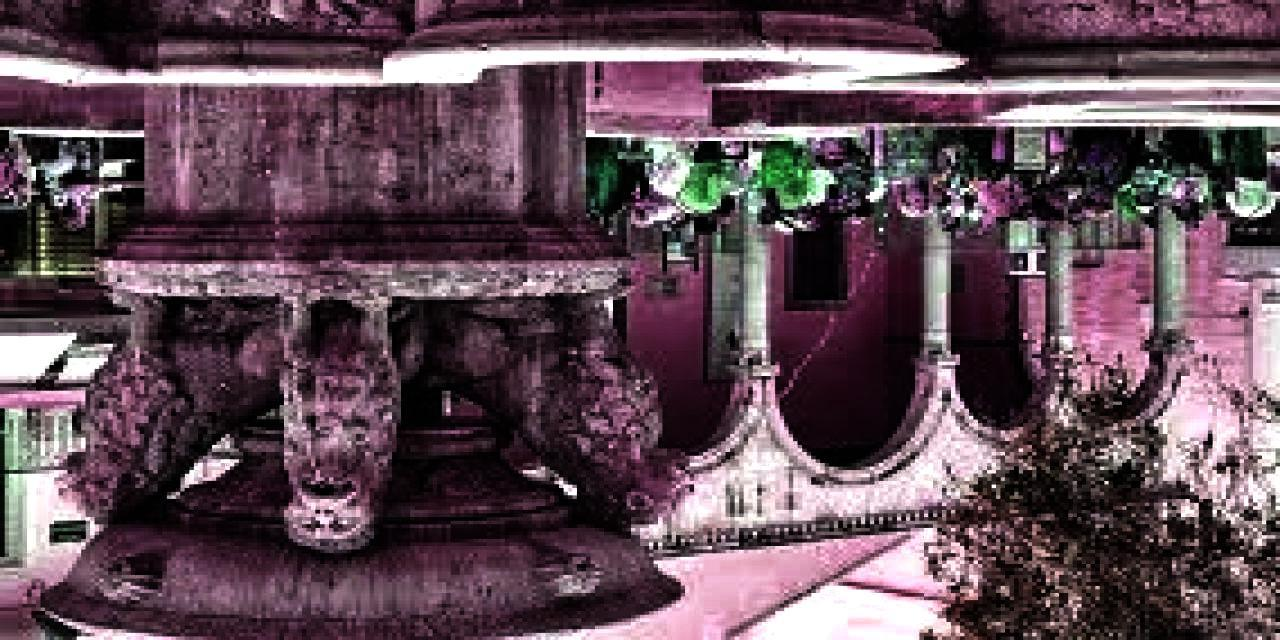Liontaria: (1, 1, 763, 639)
